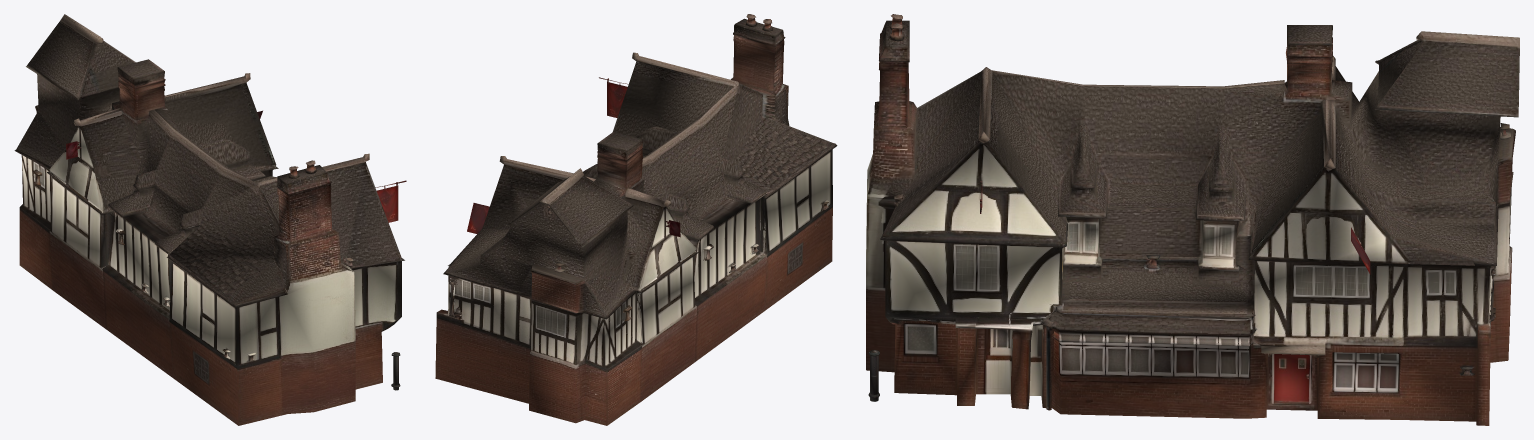
Rendered from half-timbered+pub+3d+model.glb.
3 views of the same model, side by side, from view 1: azimuth 30°, elevation 25°; view 2: azimuth 150°, elevation 25°; view 3: azimuth 270°, elevation 25° (orthographic). The views are drawn at different scales.
Visible parts, largest first — view 1: tripo_node_c9225b94-e95f-44c3-add2-116a0feb98e6; view 2: tripo_node_c9225b94-e95f-44c3-add2-116a0feb98e6; view 3: tripo_node_c9225b94-e95f-44c3-add2-116a0feb98e6.
Boxes of the visible parts, box(x1,y1,x2,y2) form: tripo_node_c9225b94-e95f-44c3-add2-116a0feb98e6: box(14, 14, 406, 425); tripo_node_c9225b94-e95f-44c3-add2-116a0feb98e6: box(435, 14, 837, 425); tripo_node_c9225b94-e95f-44c3-add2-116a0feb98e6: box(866, 14, 1519, 425).
Bounding box in the file's own units: 0.5059 × 0.5645 × 0.998.
Materials: 1 (1 with a texture image).
